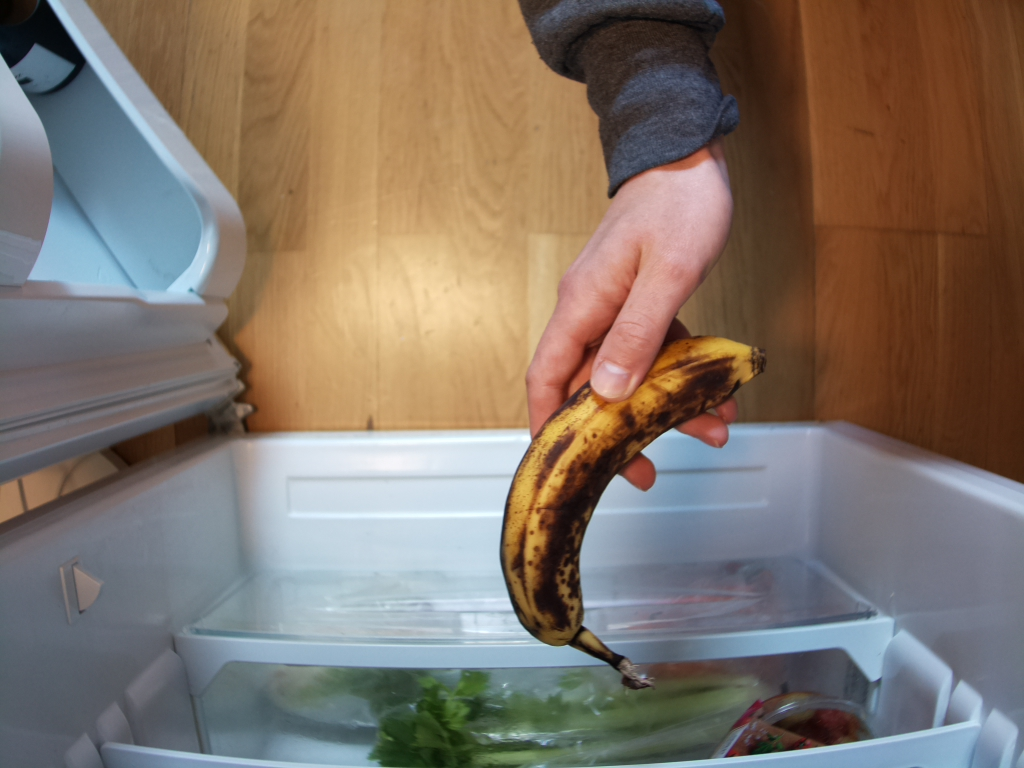banana-overripe: (498, 333, 768, 687)
